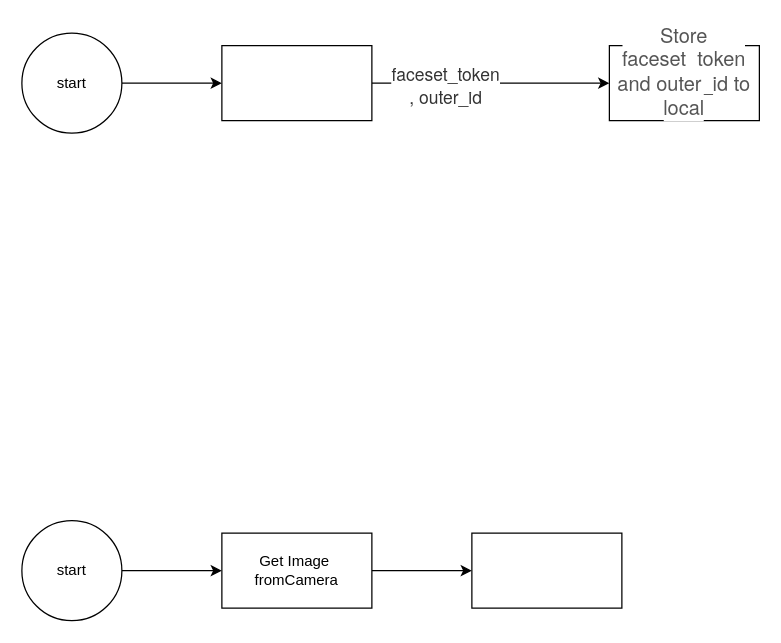
This 781x643 diagram has some shape labels left out. The box of each missing label's shape, as (x1, y1, x2, y2) in pixels:
FaceSet Create API: (221, 44, 372, 121)
Send to Face++ Detect API and Get the face_token: (471, 532, 622, 608)
